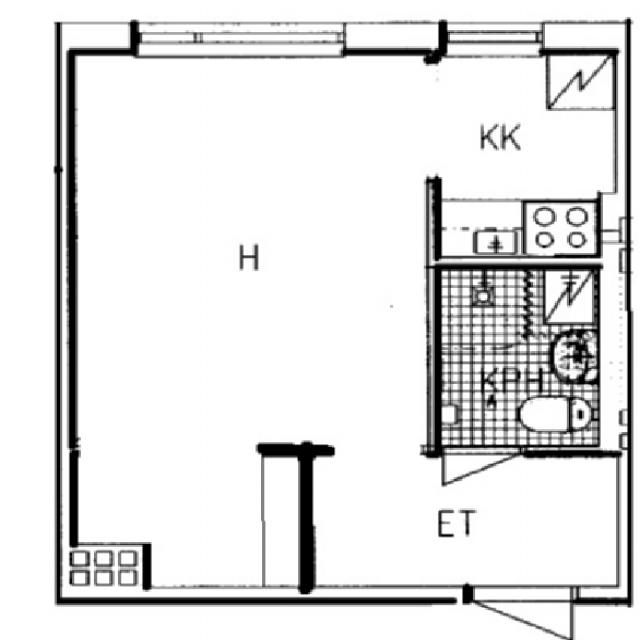door: (443, 445, 520, 518)
